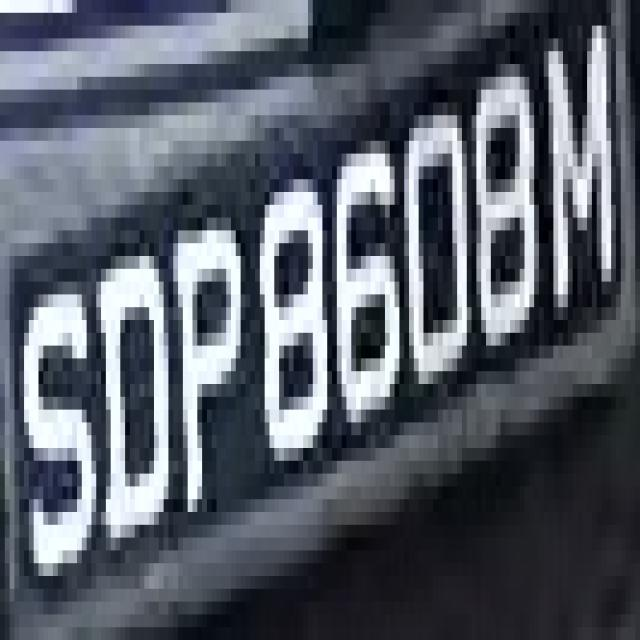0: (390, 77, 486, 410)
6: (318, 128, 404, 461)
8: (462, 64, 553, 358), (250, 179, 332, 461)
D: (92, 230, 174, 550)
M: (534, 38, 630, 384)
P: (164, 179, 245, 512)
S: (14, 230, 101, 602)
